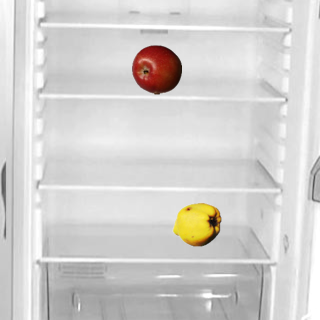Apple Braeburn: (131, 44, 181, 94)
Quince: (171, 199, 221, 249)
